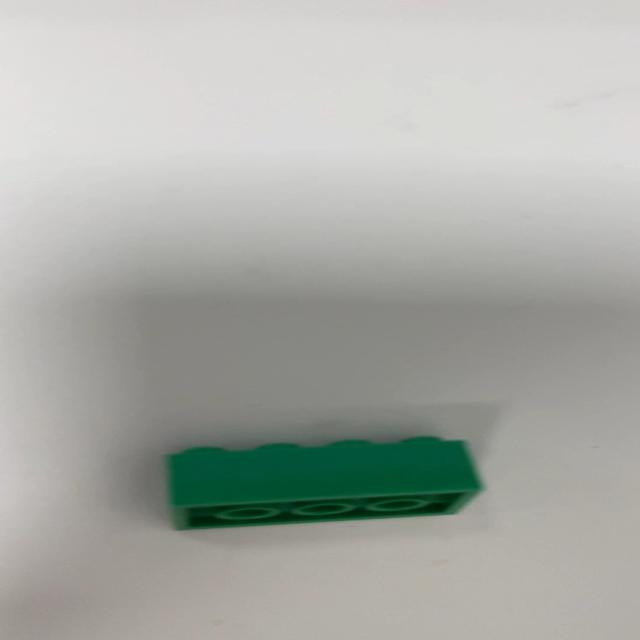P4x2x1: (164, 436, 484, 532)
